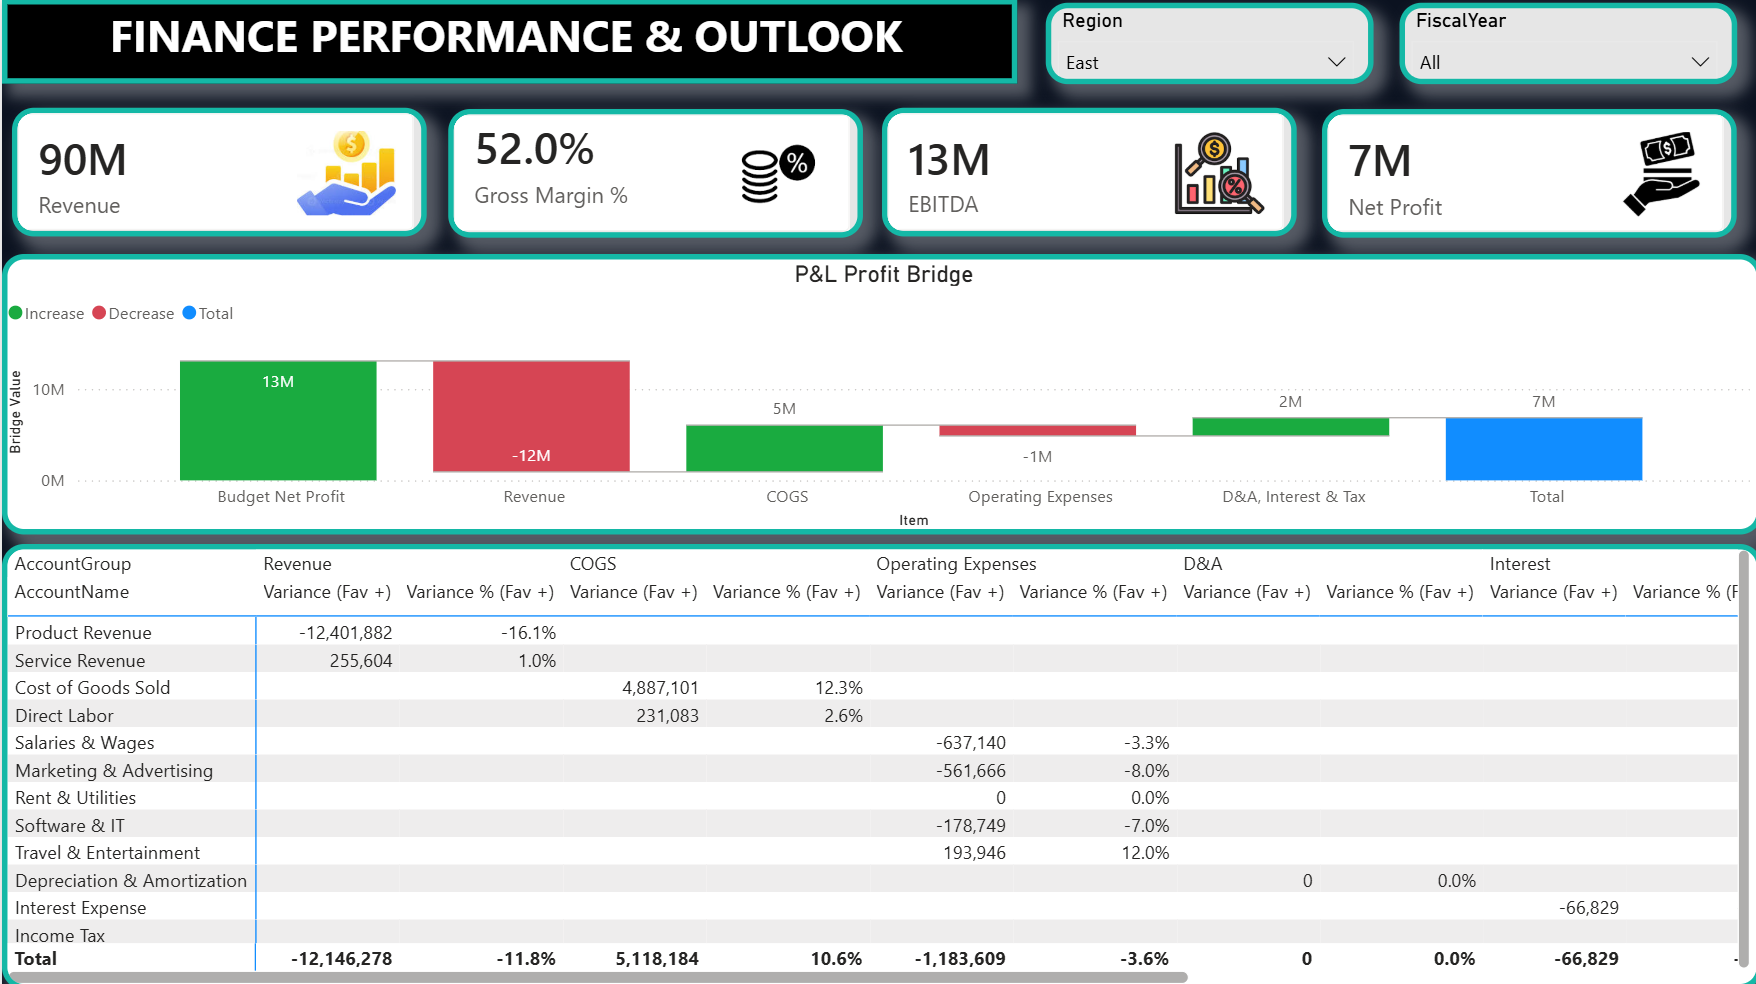

This screenshot's page, from the dashboard's own definition file:
{"tool":"powerbi","page":{"name":"P&L and Variance","canvas":[1280,720],"ordinal":1},"visuals":[{"type":"textbox","box":[0,0,738.2,61.8],"z":0},{"type":"slicer","fields":{"Values":["DimDate.FiscalYear"]},"box":[1016.4,2.7,245.5,59.1],"z":1000},{"type":"slicer","fields":{"Values":["DimRegion.Region"]},"box":[759.1,2.7,238.2,59.1],"z":2000},{"type":"cardVisual","fields":{"Data":["_Measures.Revenue"]},"box":[7.3,79.1,301.8,93.6],"z":3000},{"type":"cardVisual","fields":{"Data":["_Measures.Gross Margin %"]},"box":[324.5,80,301.8,93.6],"z":4000},{"type":"cardVisual","fields":{"Data":["_Measures.EBITDA"]},"box":[640,79.1,301.8,93.6],"z":5000},{"type":"cardVisual","fields":{"Data":["_Measures.Net Profit"]},"box":[960,80,301.8,93.6],"z":6000},{"type":"waterfallChart","title":"P&L Profit Bridge","fields":{"Category":["WaterfallBridge.Item"],"Y":["_Measures.Bridge Value"]},"box":[0,185.5,1280,203.6],"z":7000},{"type":"pivotTable","fields":{"Rows":["DimAccount.AccountName"],"Columns":["DimAccount.AccountGroup"],"Values":["_Measures.Variance (Fav +)","_Measures.Variance % (Fav +)"]},"box":[0,396.4,1280,323.6],"z":8000}]}

Visuals, with their boxes in screenshot pixels (x1, y1, x2, y2), scaled from the page's 1280x720 canvas onto the 1756x984 screenshot:
textbox: BBox(0, 0, 1013, 84)
slicer - DimDate.FiscalYear: BBox(1394, 4, 1731, 84)
slicer - DimRegion.Region: BBox(1041, 4, 1368, 84)
cardVisual - _Measures.Revenue: BBox(10, 108, 424, 236)
cardVisual - _Measures.Gross Margin %: BBox(445, 109, 859, 237)
cardVisual - _Measures.EBITDA: BBox(878, 108, 1292, 236)
cardVisual - _Measures.Net Profit: BBox(1317, 109, 1731, 237)
"P&L Profit Bridge" waterfallChart: BBox(0, 254, 1755, 532)
pivotTable - DimAccount.AccountName x DimAccount.AccountGroup: BBox(0, 542, 1755, 983)
